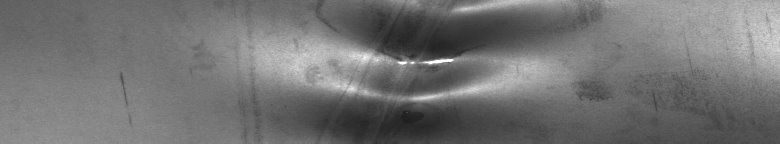ke: (252, 4, 754, 136)
